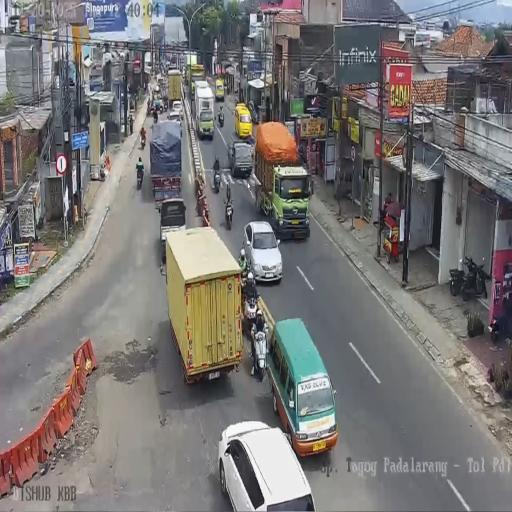car: (216, 419, 316, 511), (242, 220, 282, 286), (159, 198, 187, 260), (229, 138, 253, 178), (234, 102, 252, 140), (167, 102, 182, 124), (215, 78, 225, 101), (156, 74, 164, 86), (181, 66, 186, 80)
motorcycle: (460, 254, 489, 301), (489, 290, 512, 343), (449, 267, 466, 297), (224, 194, 233, 229), (213, 166, 221, 193), (136, 166, 144, 188), (218, 106, 224, 126), (140, 132, 146, 150), (162, 96, 168, 111), (153, 108, 158, 125), (147, 98, 151, 115)
truck: (163, 224, 243, 384), (255, 122, 311, 238), (150, 120, 183, 209), (193, 81, 215, 139), (185, 60, 203, 96), (168, 68, 183, 106), (150, 87, 164, 113), (168, 56, 177, 72)
